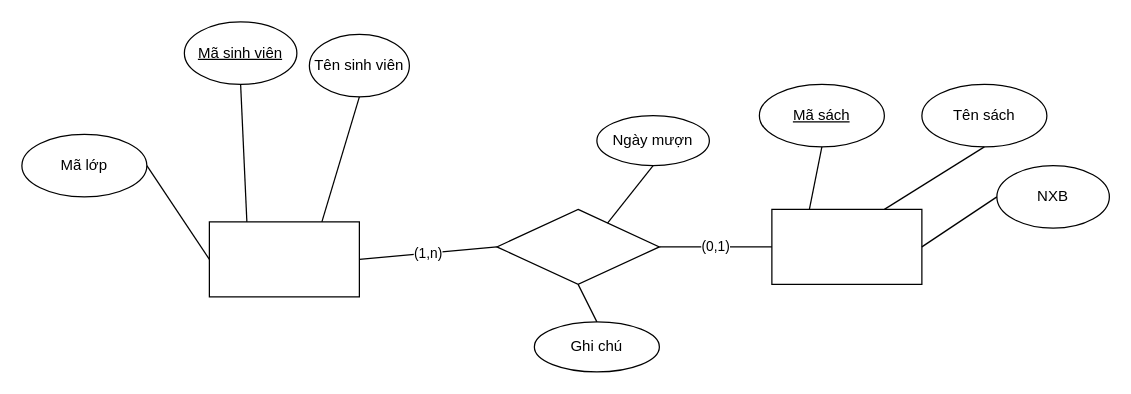
Some shapes in this 1131 by 394 pixel diagram are drawn without their labels. The shapes that lost their labels are listed below. From the top down, each one's centre as x and y in pixels, then its label:
At pixel 283 259: "Sinh viên".
At pixel 577 246: "Mượn".
At pixel 846 246: "Sách".
